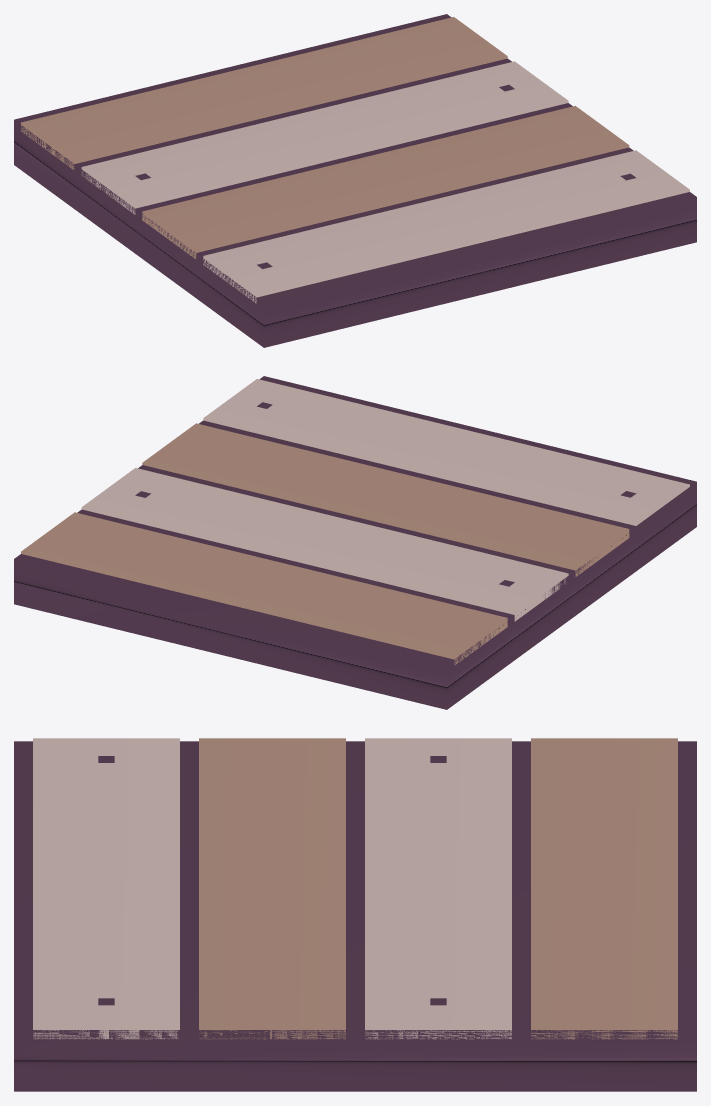
The model's file is tile_boardwalk.glb.
3 renders of one model, top to bottom at view 1: azimuth 30°, elevation 25°; view 2: azimuth 150°, elevation 25°; view 3: azimuth 270°, elevation 25°, orthographic. The views are drawn at different scales.
Parts seen in each view (by area): view 1: Tile.001; view 2: Tile.001; view 3: Tile.001.
Boxes of the visible parts, x1,y1,x2,y2 form: Tile.001: [14, 14, 696, 347]; Tile.001: [14, 376, 696, 709]; Tile.001: [14, 738, 696, 1091].
Bounding box in the file's own units: 1 × 0.108 × 1.
